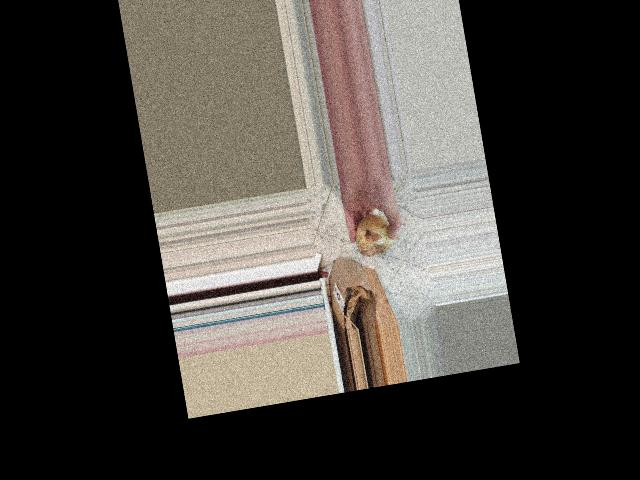onion: (351, 208, 402, 258)
